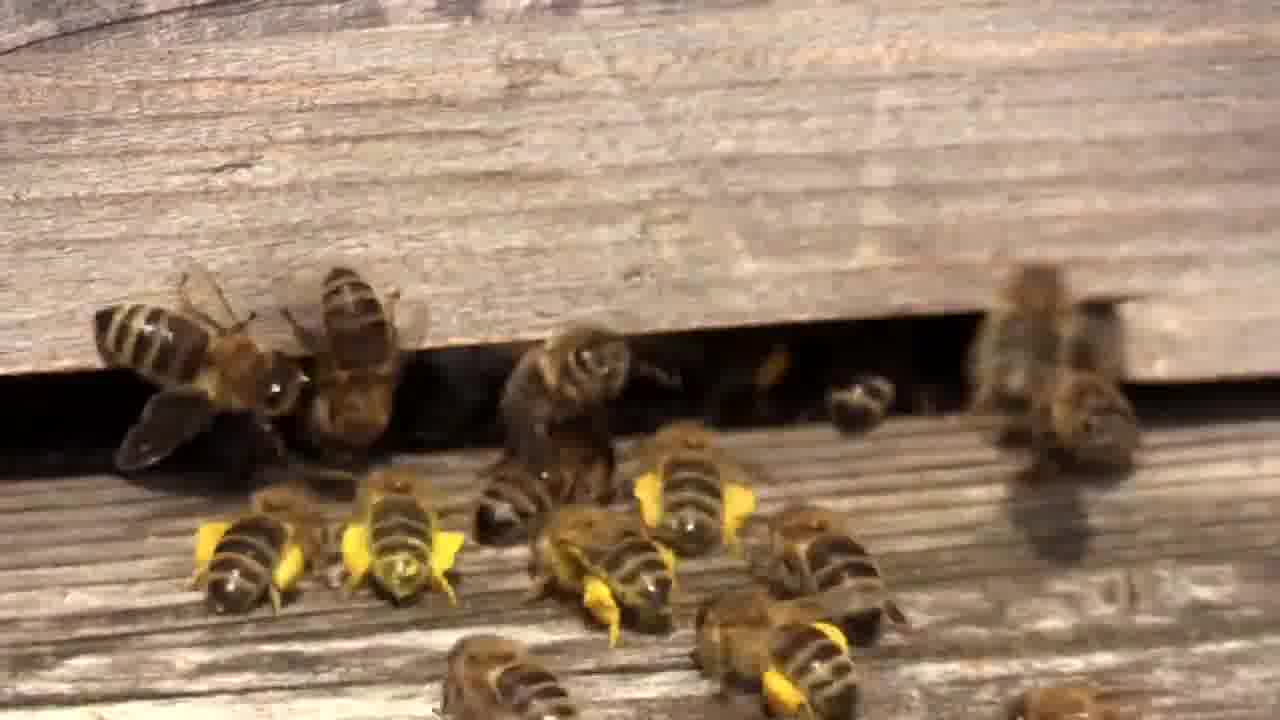pollen: (686, 591, 865, 719), (522, 491, 677, 638), (183, 480, 327, 611), (340, 469, 469, 605), (629, 433, 758, 558)
